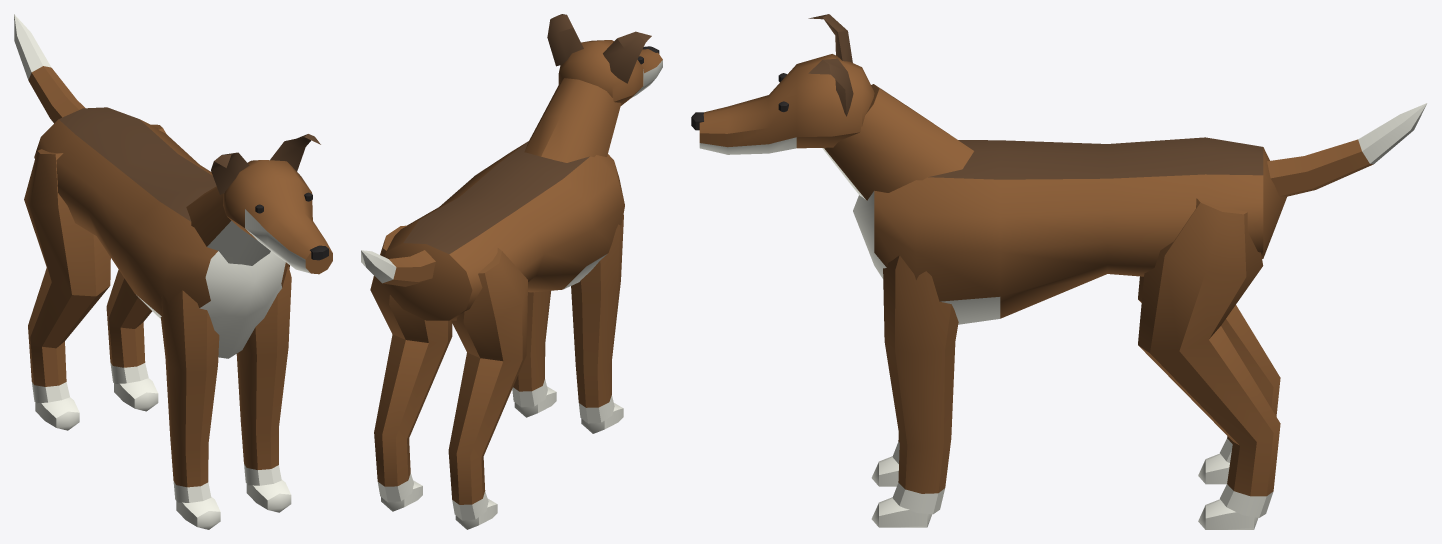
The model's file is perro.glb.
3 renders of one model, left to right at view 1: azimuth 30°, elevation 25°; view 2: azimuth 150°, elevation 25°; view 3: azimuth 270°, elevation 25°, orthographic. The views are drawn at different scales.
Visible parts, largest first — view 1: perro_cuerpo, pieza_pata_tra_der, pieza_cabeza, pieza_pata_del_der, pieza_pata_del_izq, pieza_pata_tra_izq, pieza_cola; view 2: perro_cuerpo, pieza_pata_tra_der, pieza_cabeza, pieza_pata_tra_izq, pieza_pata_del_der, pieza_pata_del_izq, pieza_cola; view 3: perro_cuerpo, pieza_pata_tra_izq, pieza_cabeza, pieza_pata_del_izq, pieza_cola, pieza_pata_tra_der.
Part boxes in pixels (x1,y1,x2,y2): perro_cuerpo: (34, 107, 289, 358); pieza_pata_tra_der: (24, 149, 110, 430); pieza_cabeza: (186, 134, 332, 274); pieza_pata_del_der: (160, 290, 220, 529); pieza_pata_del_izq: (236, 265, 291, 512); pieza_pata_tra_izq: (106, 124, 166, 411); pieza_cola: (14, 14, 85, 123); perro_cuerpo: (384, 141, 624, 320); pieza_pata_tra_der: (448, 248, 527, 529); pieza_cabeza: (524, 14, 662, 162); pieza_pata_tra_izq: (370, 225, 452, 511); pieza_pata_del_der: (571, 214, 623, 433); pieza_pata_del_izq: (512, 290, 556, 417); pieza_cola: (361, 250, 435, 286); perro_cuerpo: (853, 137, 1286, 324); pieza_pata_tra_izq: (1138, 198, 1280, 529); pieza_cabeza: (691, 14, 973, 200); pieza_pata_del_izq: (871, 255, 958, 527); pieza_cola: (1267, 103, 1427, 196); pieza_pata_tra_der: (1138, 276, 1280, 484).
Size of the model in its own units: 0.228 by 0.5539 by 0.789.
